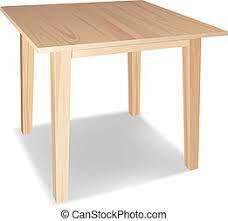desk: (0, 2, 223, 187)
